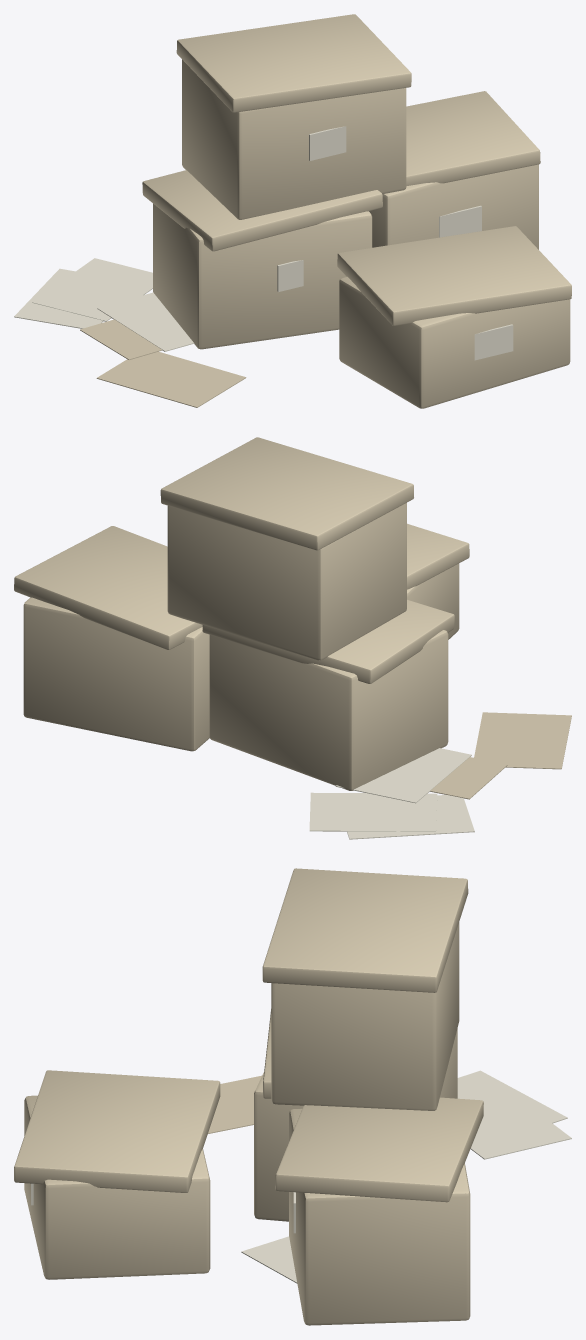
File: cardboard_boxes.glb
3 views of the same model, one above another, from view 1: azimuth 30°, elevation 25°; view 2: azimuth 150°, elevation 25°; view 3: azimuth 270°, elevation 25° (orthographic). The views are drawn at different scales.
Visible parts, largest first — view 1: cardboard_boxes; view 2: cardboard_boxes; view 3: cardboard_boxes.
Part boxes in pixels (<box>): cardboard_boxes: <box>14,14,571,408</box>; cardboard_boxes: <box>14,437,571,839</box>; cardboard_boxes: <box>14,868,571,1325</box>.
Size of what is drawn, in the model's own units: 1.29 by 0.6559 by 1.17.
